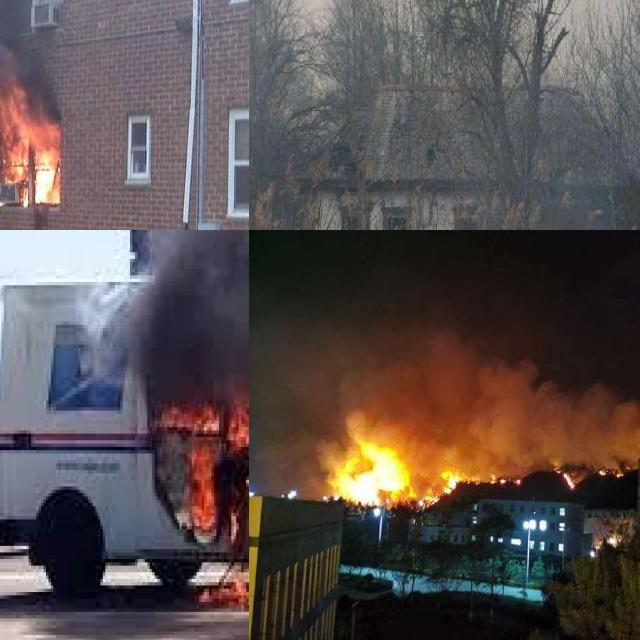fire: (142, 361, 249, 628), (0, 63, 62, 205), (329, 437, 428, 509)
smoke: (260, 326, 640, 494), (85, 230, 249, 394)
